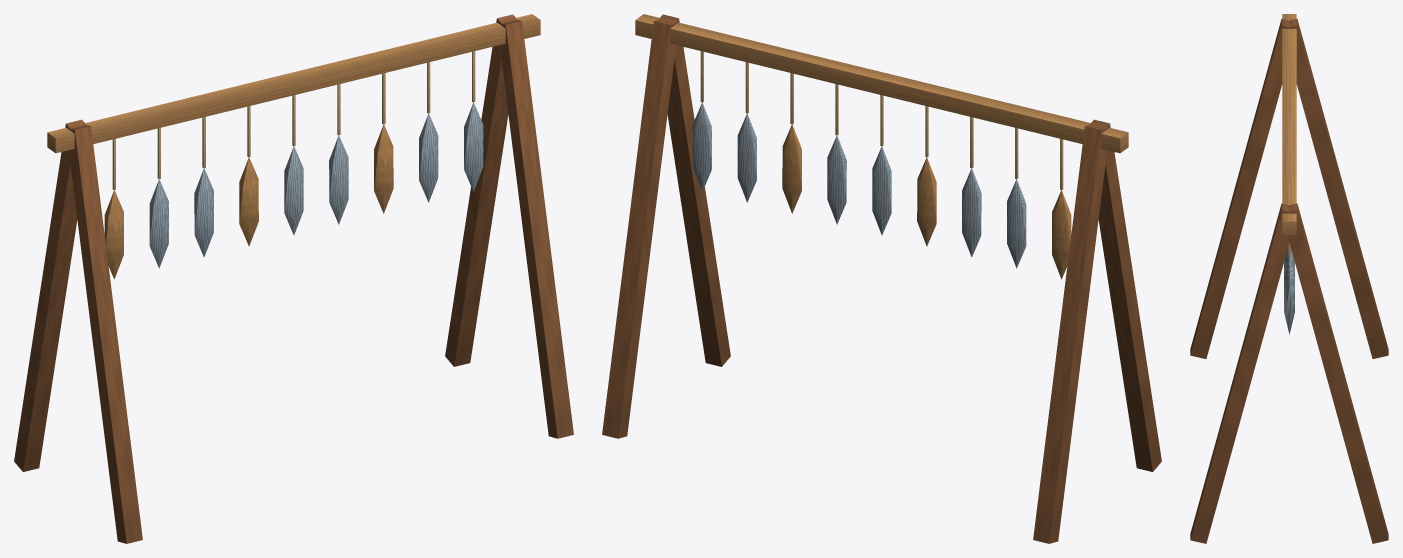
Rendered from prop_fish_rack_01.glb.
3 renders of one model, left to right at view 1: azimuth 30°, elevation 25°; view 2: azimuth 150°, elevation 25°; view 3: azimuth 270°, elevation 25°, orthographic. The views are drawn at different scales.
Parts seen in each view (by area): view 1: prop_fish_rack_01; view 2: prop_fish_rack_01; view 3: prop_fish_rack_01.
Boxes of the visible parts, bbox=[...] form: prop_fish_rack_01: bbox=[14, 14, 573, 543]; prop_fish_rack_01: bbox=[602, 14, 1161, 543]; prop_fish_rack_01: bbox=[1190, 14, 1388, 543].
Size of the model in its own units: 2.7 by 2.02 by 1.09.
Materials: 1 (1 with a texture image).
